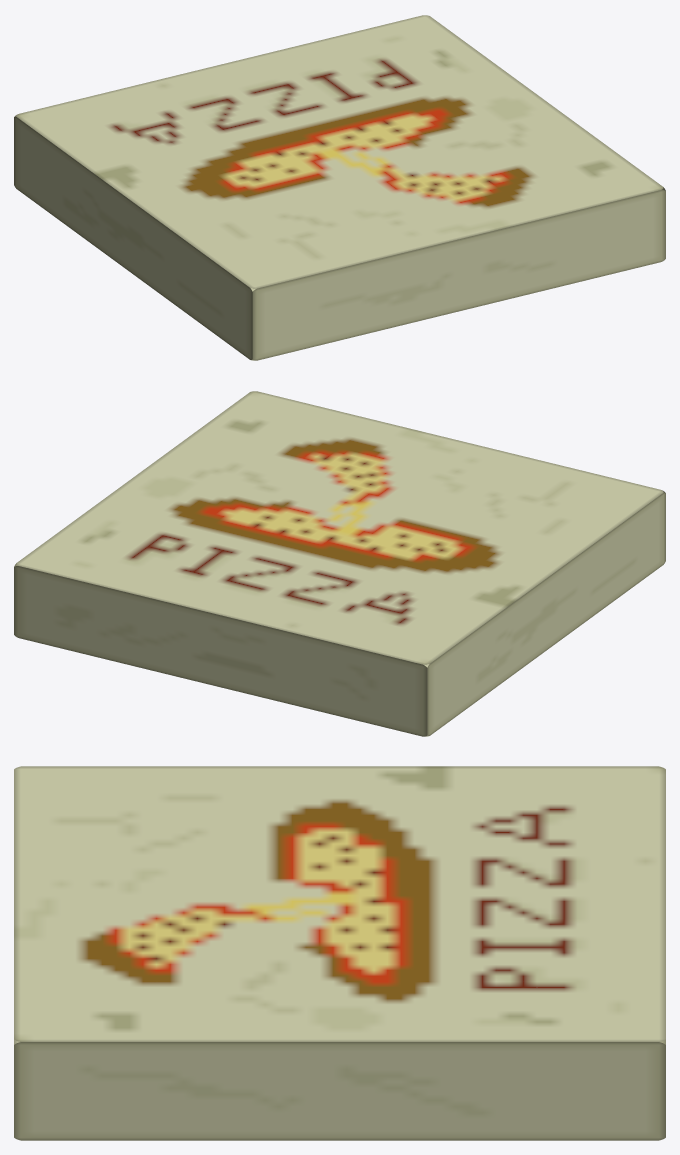
Rendered from Pizza_Box.fbx.
The picture shows the model from 3 angles, top to bottom: view 1: azimuth 30°, elevation 25°; view 2: azimuth 150°, elevation 25°; view 3: azimuth 270°, elevation 25°; orthographic projection. The views are drawn at different scales.
Parts seen in each view (by area): view 1: pizzaBox; view 2: pizzaBox; view 3: pizzaBox.
Boxes of the visible parts, x1,y1,x2,y2 form: pizzaBox: (14,15,665,360); pizzaBox: (14,391,665,736); pizzaBox: (14,766,665,1140).
Bounding box in the file's own units: 9.38 × 1.56 × 9.38.
1 material, 1 textured.
